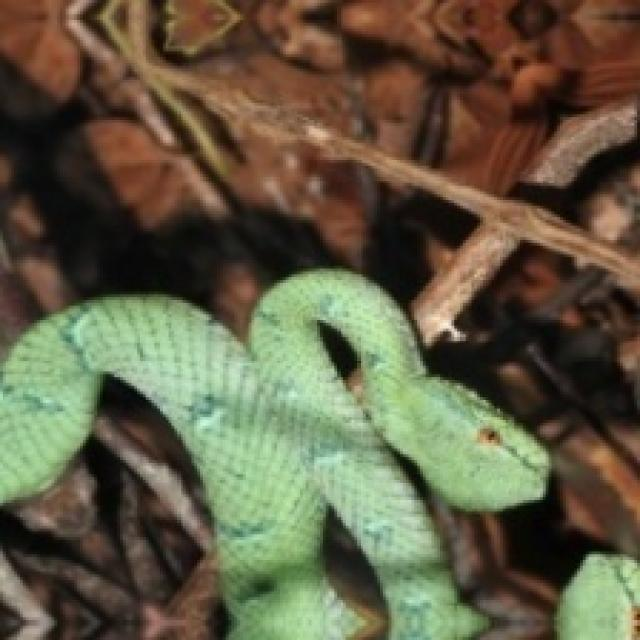north ph temple pitviper: (0, 269, 546, 637)
